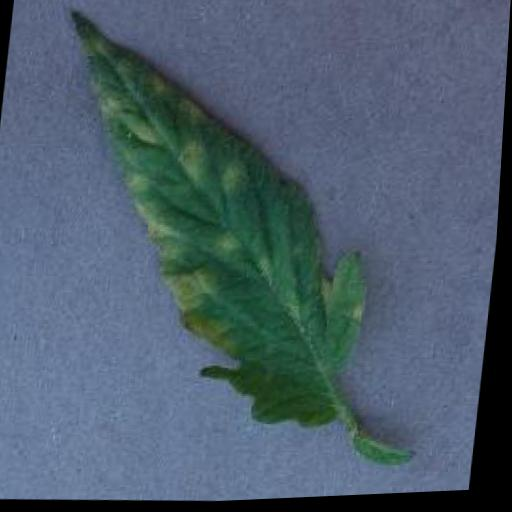Leaf Mold: (29, 0, 399, 439)
